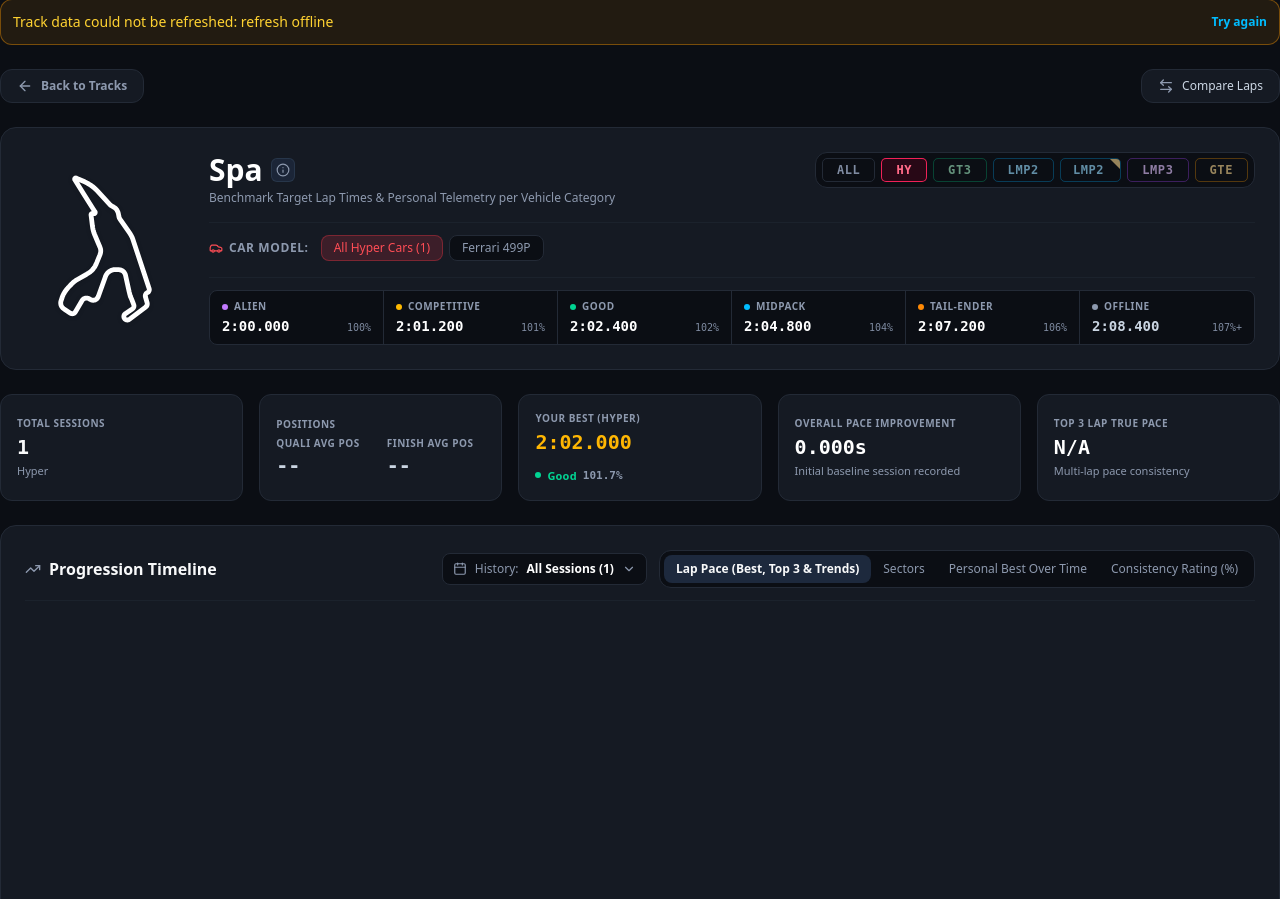
Test case: TrackDetail component › shows a retry warning with existing track data after a refresh fails
Expected: the heading "Spa" is shown, [209,152,263,188]
Expected: the message shows "refresh offline", [241,12,333,31]
Step 1. Click the button "Try again" → {"x": 1239, "y": 22}, box [1212,14,1267,30]
(page scrolled)
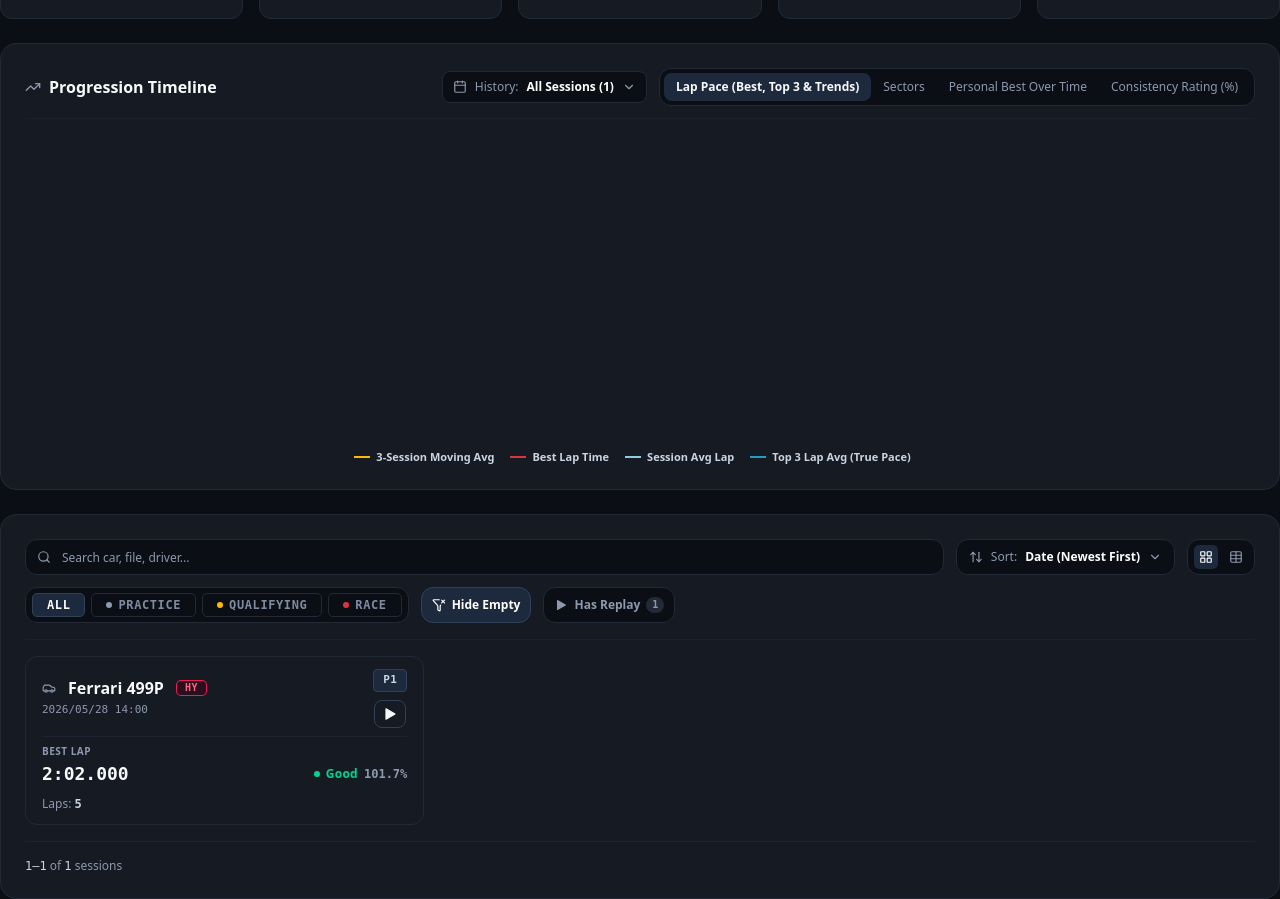
Expected: the text "2026/05/28 14:00" is shown, [42,703,148,716]
Expected: the message "Track data could not be refreshed: refresh offline Try again" is gone
